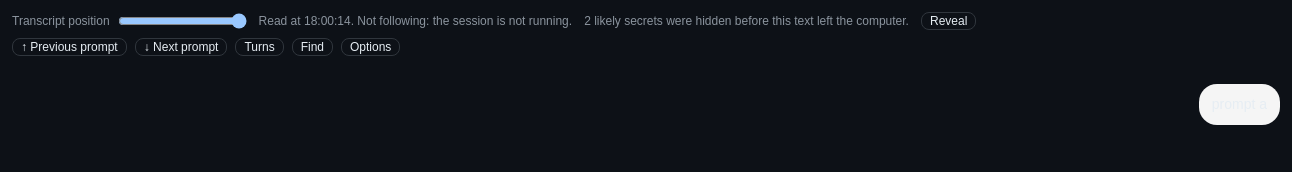
Test case: masked secrets and Reveal (#1488) › keeps the masked text on screen when a reveal is refused, and says why
Click the button "Reveal".
click(949, 21)  # box [921,12,976,30]
Wait 120 ms
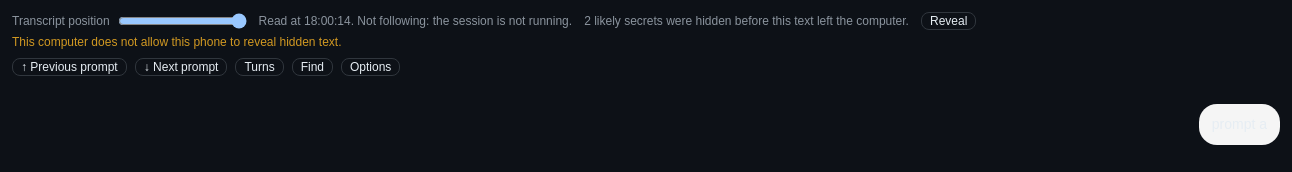
Expected: the message reads "This computer does not allow this phone to reveal hidden text.", [12,35,342,49]
